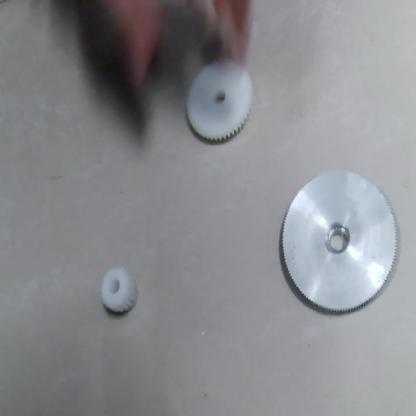FOD: (276, 169, 400, 317), (184, 48, 260, 151), (97, 264, 142, 318)
